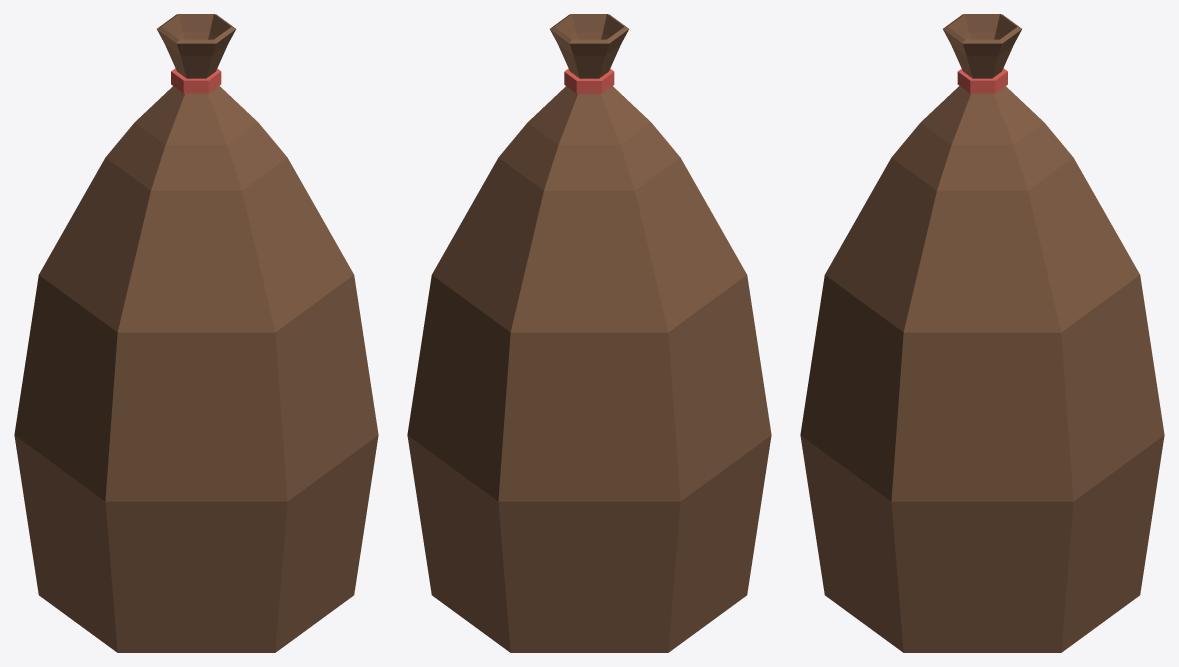
Rendered from Sack.fbx.
3 views of the same model, side by side, from view 1: azimuth 30°, elevation 25°; view 2: azimuth 150°, elevation 25°; view 3: azimuth 270°, elevation 25° (orthographic).
Parts seen in each view (by area): view 1: Sack; view 2: Sack; view 3: Sack.
Part boxes in pixels (x1=…): Sack: x1=14, y1=14, x2=378, y2=652; Sack: x1=407, y1=14, x2=771, y2=652; Sack: x1=800, y1=14, x2=1164, y2=652.
Size of the model in its own units: 220 by 455 by 254.
